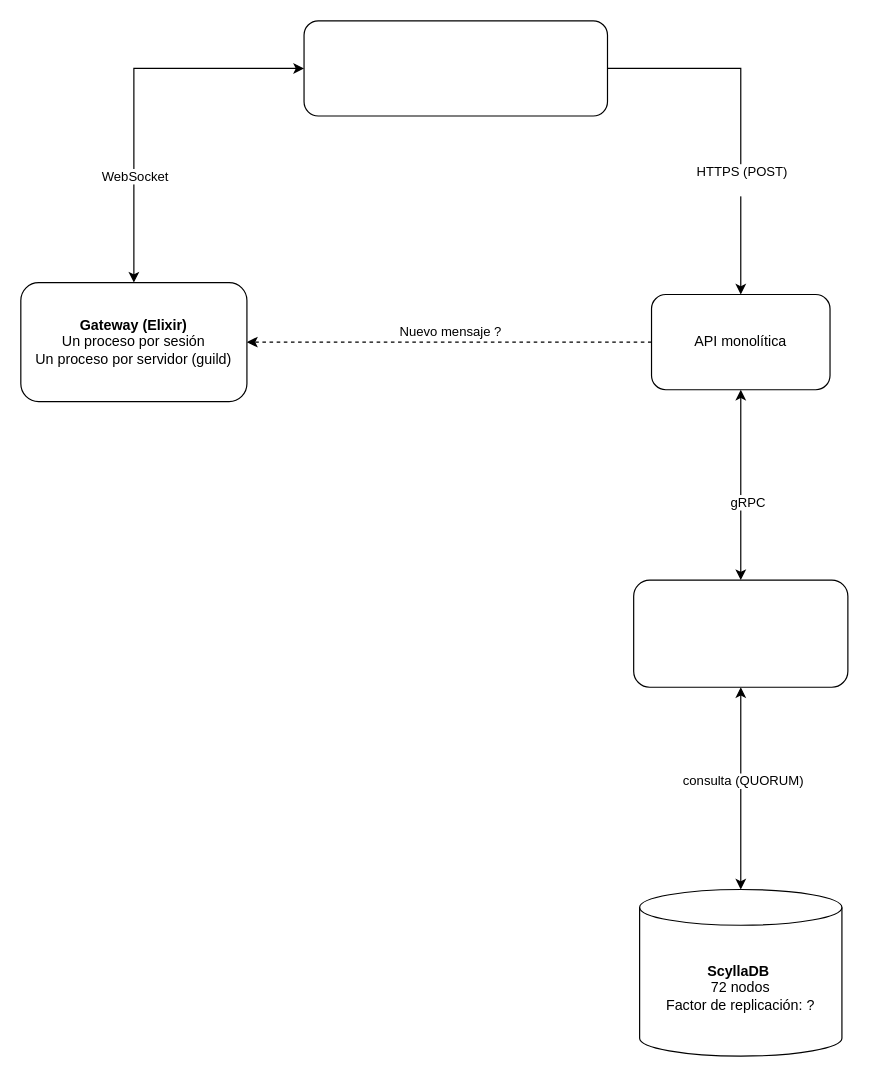
Some shapes in this 869 by 1077 pixel diagram are drawn without their labels. Each missing label, with the box of its shape:
Servicios de datos (Rust) Juntan peticiones iguales: (632, 579, 848, 687)
Usuarios App de escritorio · Celular · Web: (303, 20, 607, 116)
